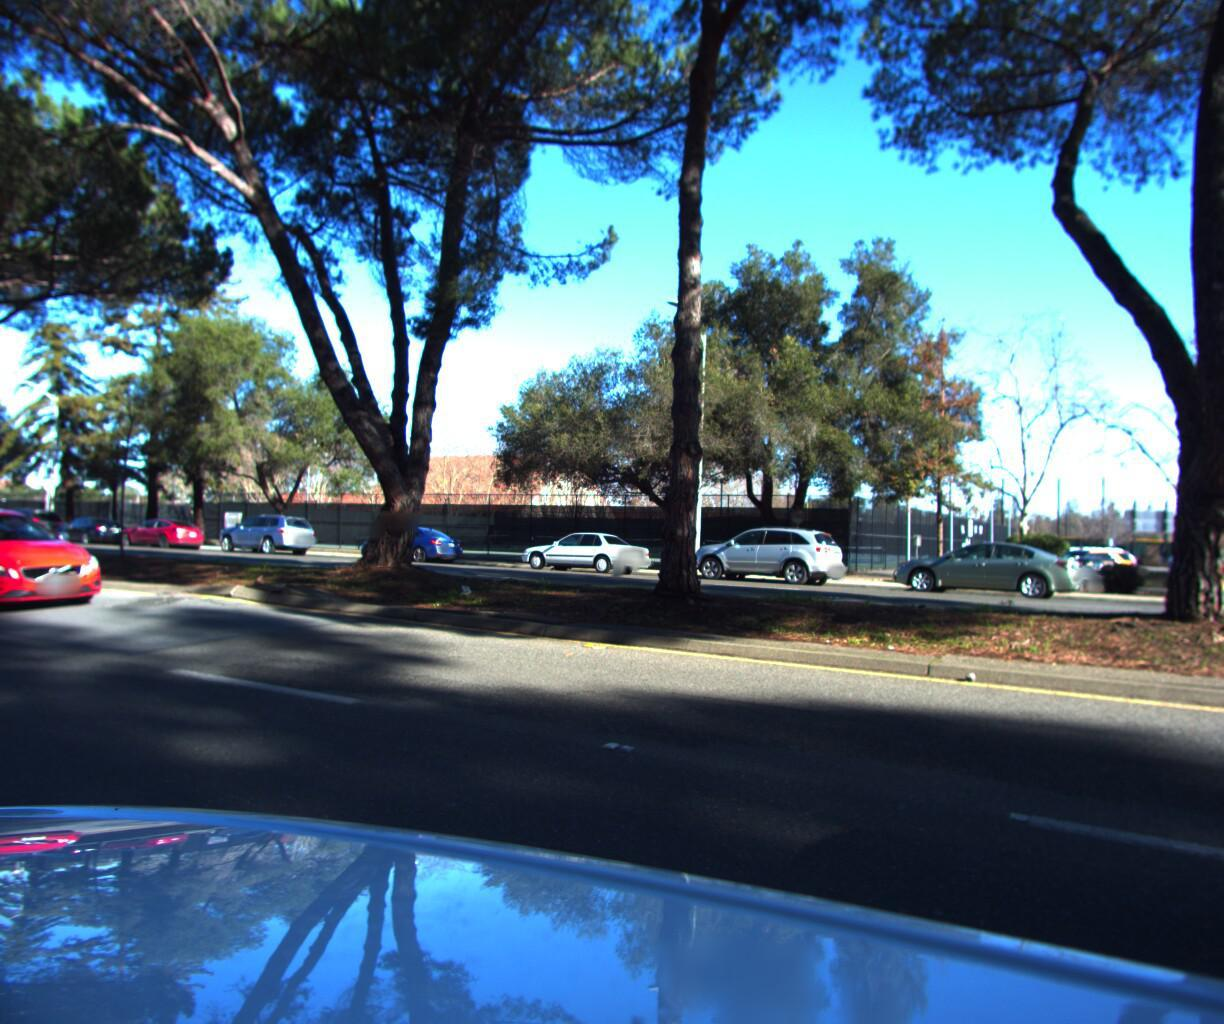car: (879, 534, 1088, 605), (0, 501, 128, 615), (677, 522, 850, 590), (510, 527, 654, 579), (349, 524, 471, 568), (209, 514, 320, 562), (111, 519, 212, 557), (48, 519, 134, 551), (0, 511, 67, 547), (1217, 525, 1224, 629)
